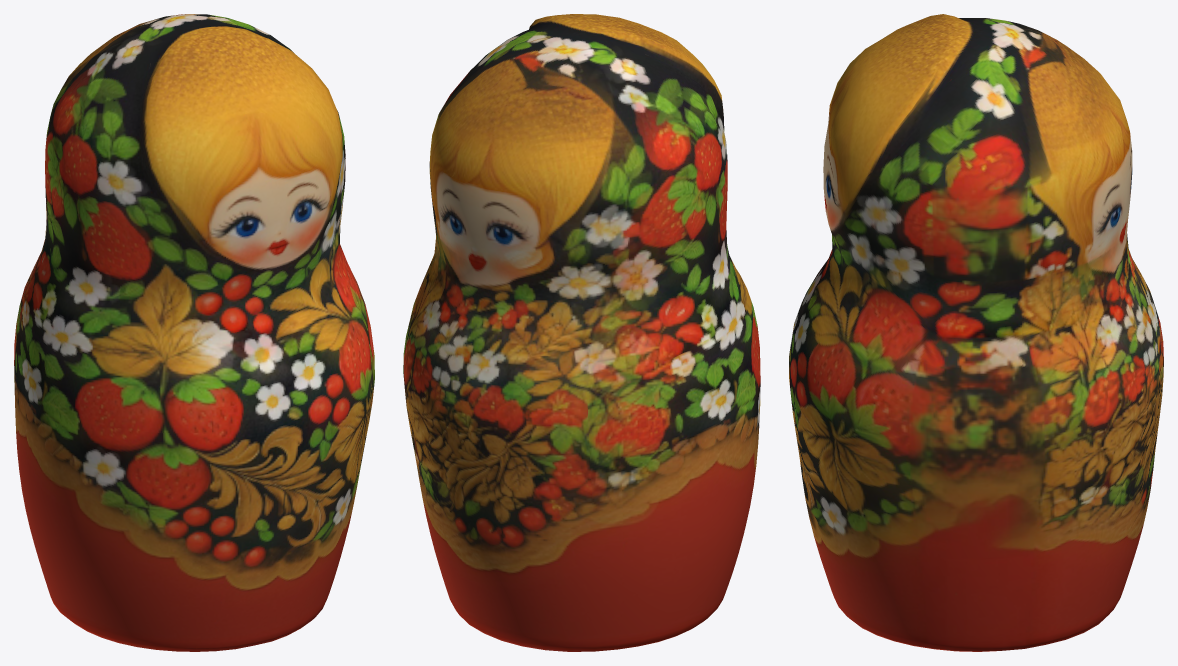
The model's file is MatroSicaForth.fbx.
The picture shows the model from 3 angles, left to right: view 1: azimuth 30°, elevation 25°; view 2: azimuth 150°, elevation 25°; view 3: azimuth 270°, elevation 25°; orthographic projection.
Parts seen in each view (by area): view 1: Second; view 2: Second; view 3: Second.
Boxes of the visible parts, x1,y1,x2,y2 form: Second: (14, 14, 374, 651); Second: (403, 14, 760, 651); Second: (789, 14, 1163, 651).
Size of the model in its own units: 26.7 by 47.45 by 28.25.
Materials: 1 (1 with a texture image).
